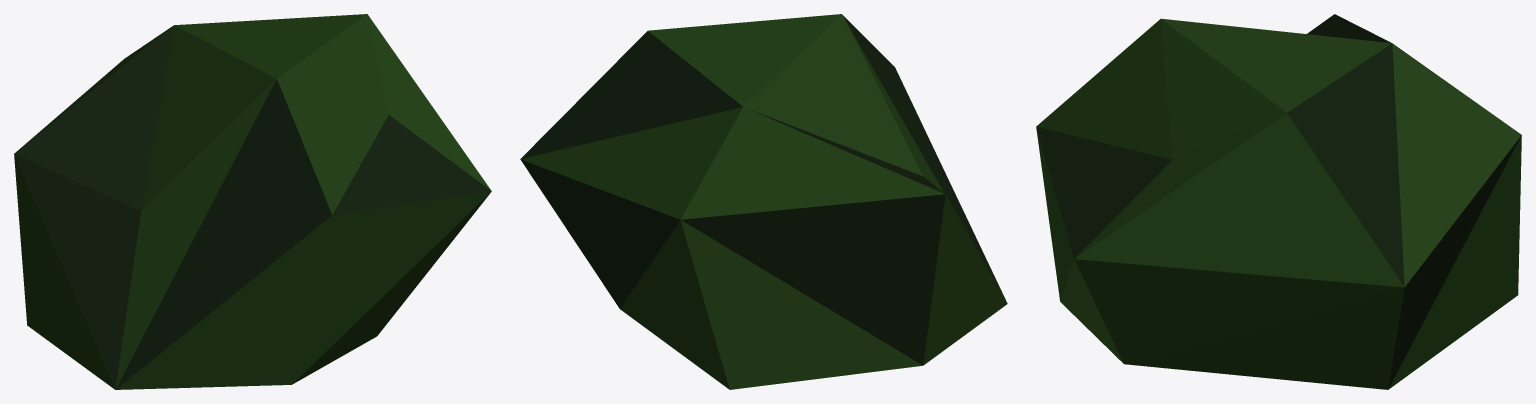
The model's file is Plant_M2_1.fbx.
The picture shows the model from 3 angles, left to right: view 1: azimuth 30°, elevation 25°; view 2: azimuth 150°, elevation 25°; view 3: azimuth 270°, elevation 25°; orthographic projection. The views are drawn at different scales.
Parts seen in each view (by area): view 1: Plant_M2_1; view 2: Plant_M2_1; view 3: Plant_M2_1.
Part boxes in pixels (box(x1,y1,x2,y2)): Plant_M2_1: box(14, 14, 491, 389); Plant_M2_1: box(520, 14, 1007, 389); Plant_M2_1: box(1036, 14, 1521, 389).
Size of the model in its own units: 70.99 by 43.71 by 64.25.
